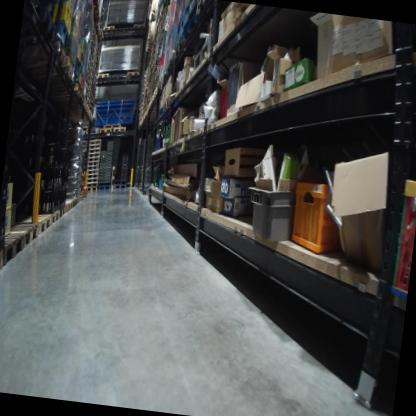pallet: (24, 36, 70, 70), (36, 83, 86, 107), (32, 0, 64, 37), (191, 32, 215, 77), (35, 78, 82, 100), (10, 213, 50, 238), (33, 62, 76, 84), (10, 221, 38, 249), (0, 234, 23, 267), (191, 0, 218, 25), (181, 4, 196, 42), (171, 35, 192, 61), (56, 96, 88, 112), (39, 208, 60, 224), (162, 93, 177, 115), (101, 23, 117, 43), (93, 70, 110, 88), (124, 66, 141, 84), (132, 18, 145, 39), (100, 119, 122, 130), (109, 163, 117, 190), (0, 249, 6, 284), (59, 197, 73, 212), (111, 180, 127, 192), (96, 182, 111, 193), (86, 135, 101, 146), (112, 124, 127, 135), (55, 204, 65, 220), (98, 125, 113, 135), (86, 164, 99, 175), (86, 159, 100, 169), (85, 146, 100, 155), (83, 184, 99, 192), (85, 167, 99, 176), (83, 176, 100, 183), (82, 181, 99, 188), (68, 197, 77, 210), (86, 151, 100, 159), (83, 174, 98, 181), (87, 142, 101, 149), (87, 157, 99, 165), (84, 106, 91, 117), (77, 193, 84, 202), (88, 112, 94, 120)
